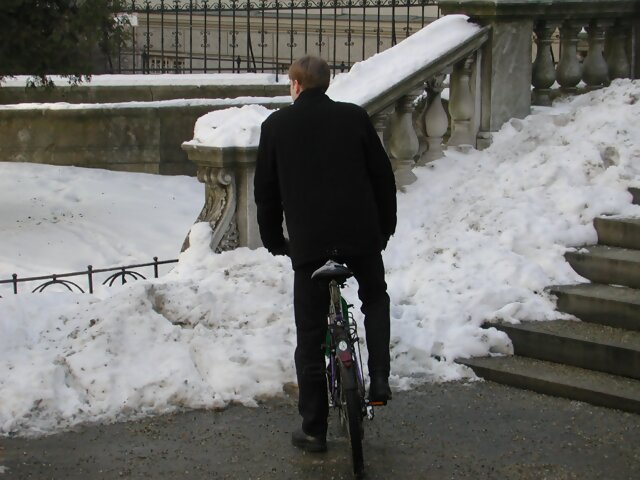person: (252, 53, 400, 452)
